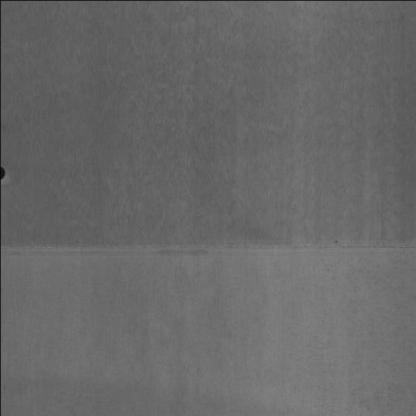punching_hole: (0, 161, 10, 184)
silk_spot: (18, 12, 402, 213)
welding_line: (0, 225, 415, 262)
